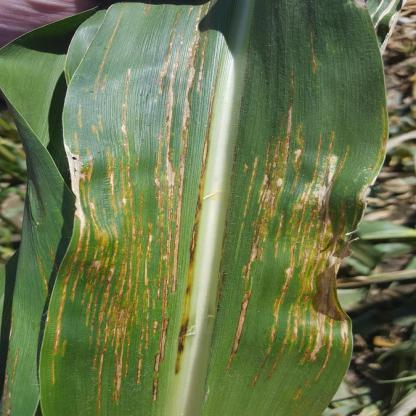corn leaf blight: (59, 1, 388, 416)
